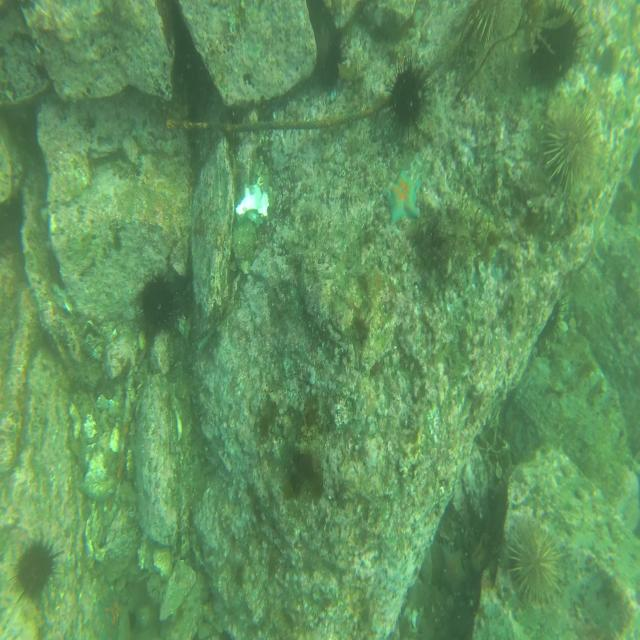echinus: (546, 88, 600, 192), (507, 514, 563, 609), (530, 0, 581, 86), (383, 50, 432, 138), (10, 532, 65, 604), (139, 269, 179, 334)
starfish: (383, 169, 424, 226), (440, 546, 470, 597), (96, 586, 124, 640)
